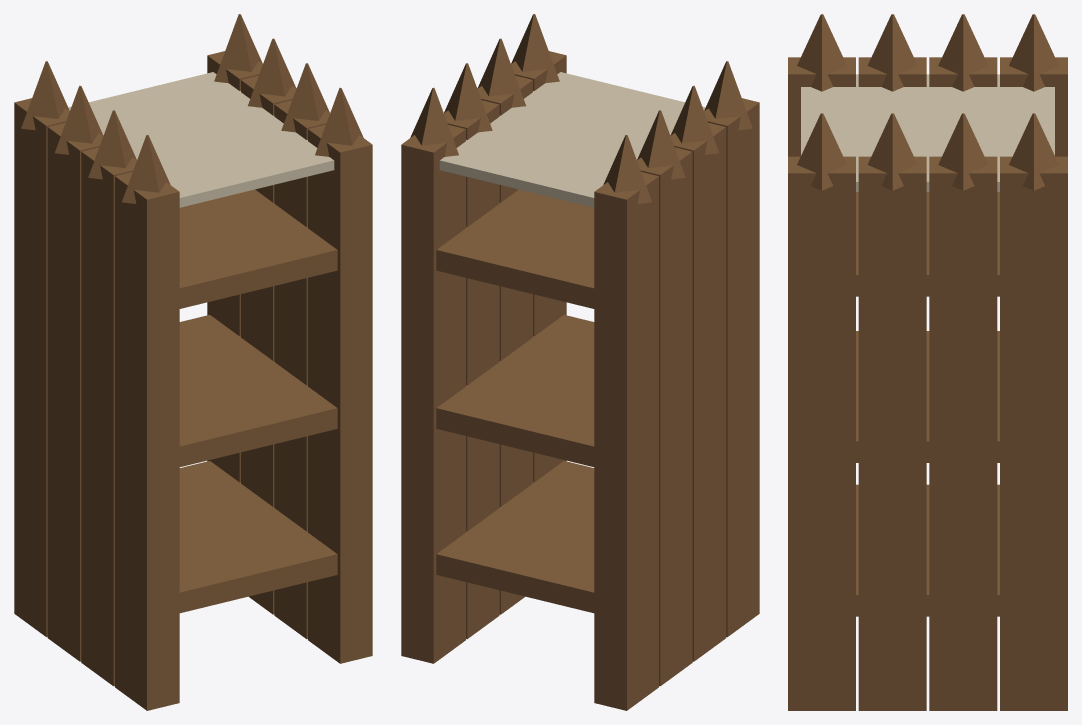
3 renders of one model, left to right at view 1: azimuth 30°, elevation 25°; view 2: azimuth 150°, elevation 25°; view 3: azimuth 270°, elevation 25°, orthographic. The views are drawn at different scales.
Visible parts, largest first — view 1: Bergfried – Steine, Säulen, Ziegel und Feuerstelle; view 2: Bergfried – Steine, Säulen, Ziegel und Feuerstelle; view 3: Bergfried – Steine, Säulen, Ziegel und Feuerstelle.
Part boxes in pixels (left/top/right/bottom): Bergfried – Steine, Säulen, Ziegel und Feuerstelle: left=14, top=14, right=372, bottom=710; Bergfried – Steine, Säulen, Ziegel und Feuerstelle: left=401, top=14, right=759, bottom=710; Bergfried – Steine, Säulen, Ziegel und Feuerstelle: left=788, top=14, right=1067, bottom=710.
Size of the model in its own units: 210 by 460 by 198.
